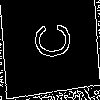C: (25, 21, 71, 61)
